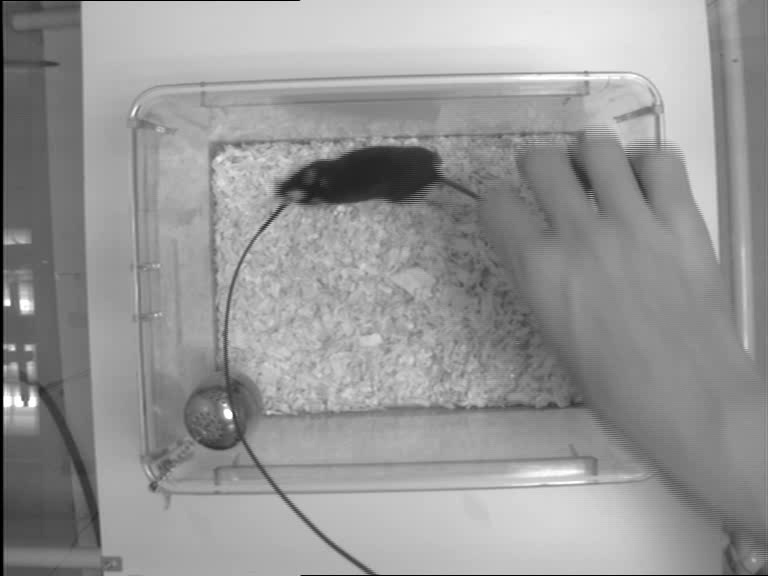mice: (276, 145, 484, 207)
